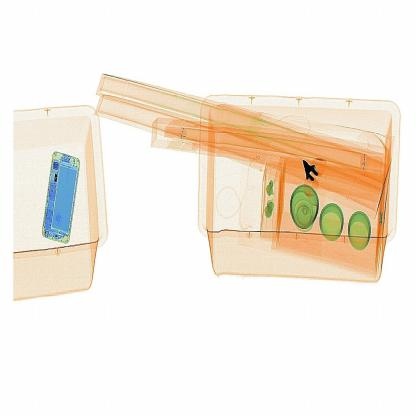gun: (292, 150, 331, 204)
